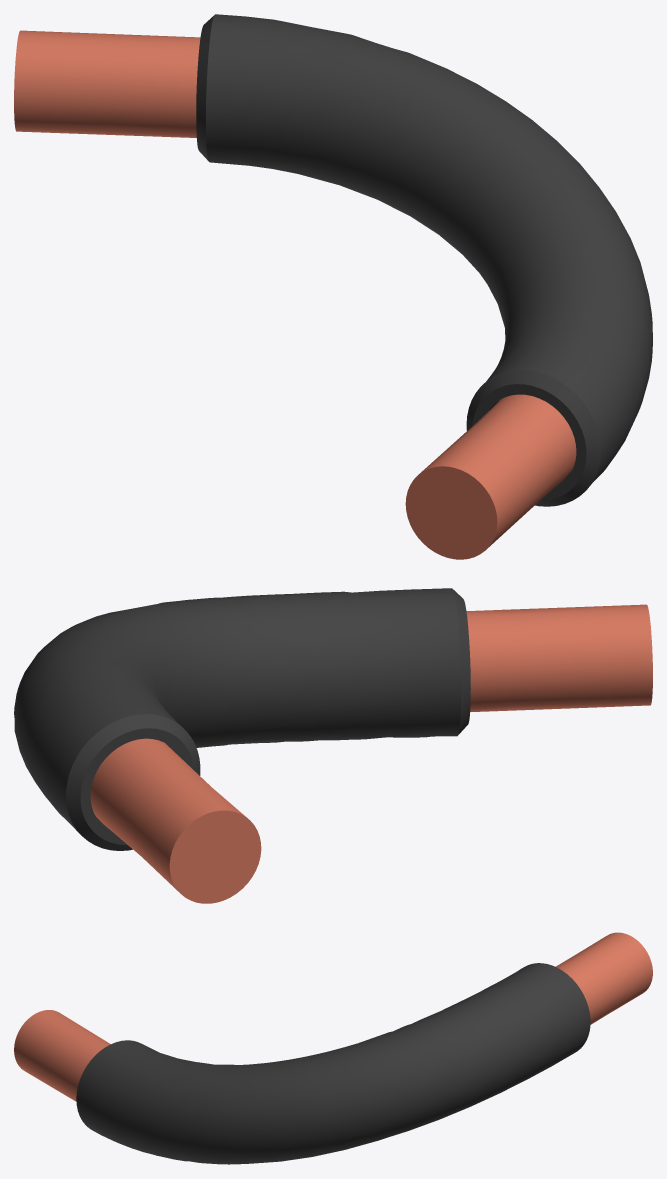
The model's file is BATTERY CRATE STACK V2__BATTERY CRATE L3__MODULE CONNECTION CABLE ASM A__MODULE CONNECTION CABLE A.glb.
3 renders of one model, top to bottom at view 1: azimuth 30°, elevation 25°; view 2: azimuth 150°, elevation 25°; view 3: azimuth 270°, elevation 25°, orthographic. The views are drawn at different scales.
Visible parts, largest first — view 1: MODULE CONNECTION CABLE A; view 2: MODULE CONNECTION CABLE A; view 3: MODULE CONNECTION CABLE A.
Part boxes in pixels (x1,y1,x2,y2): MODULE CONNECTION CABLE A: (14, 14, 652, 559); MODULE CONNECTION CABLE A: (14, 588, 652, 903); MODULE CONNECTION CABLE A: (14, 932, 652, 1164).
Bounding box in the file's own units: 0.0618 × 0.0379 × 0.131.
